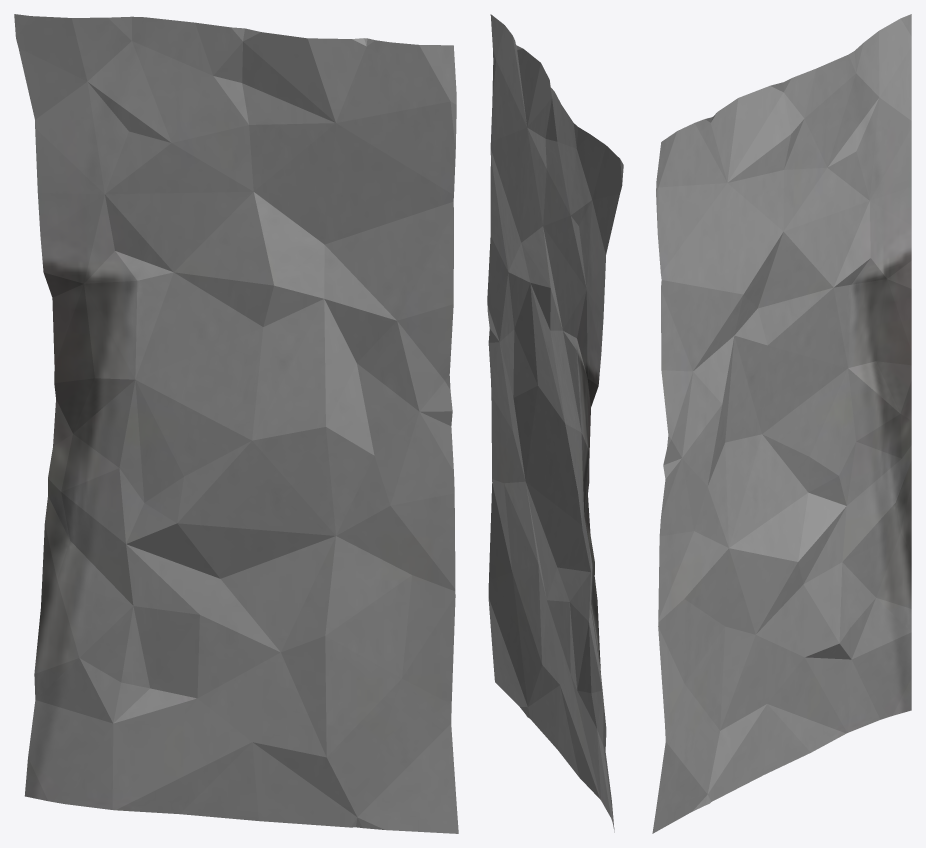
3 renders of one model, left to right at view 1: azimuth 30°, elevation 25°; view 2: azimuth 150°, elevation 25°; view 3: azimuth 270°, elevation 25°, orthographic. The views are drawn at different scales.
Bounding box in the file's own units: 0.3322 × 0.8374 × 0.2842.
Materials: 1 (1 with a texture image).
